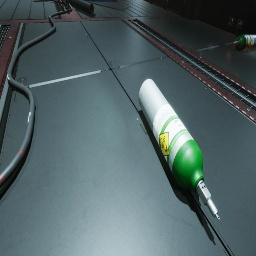0: (139, 79, 220, 221), (233, 35, 256, 51)
FirstAidBox ,: (123, 0, 126, 0)
